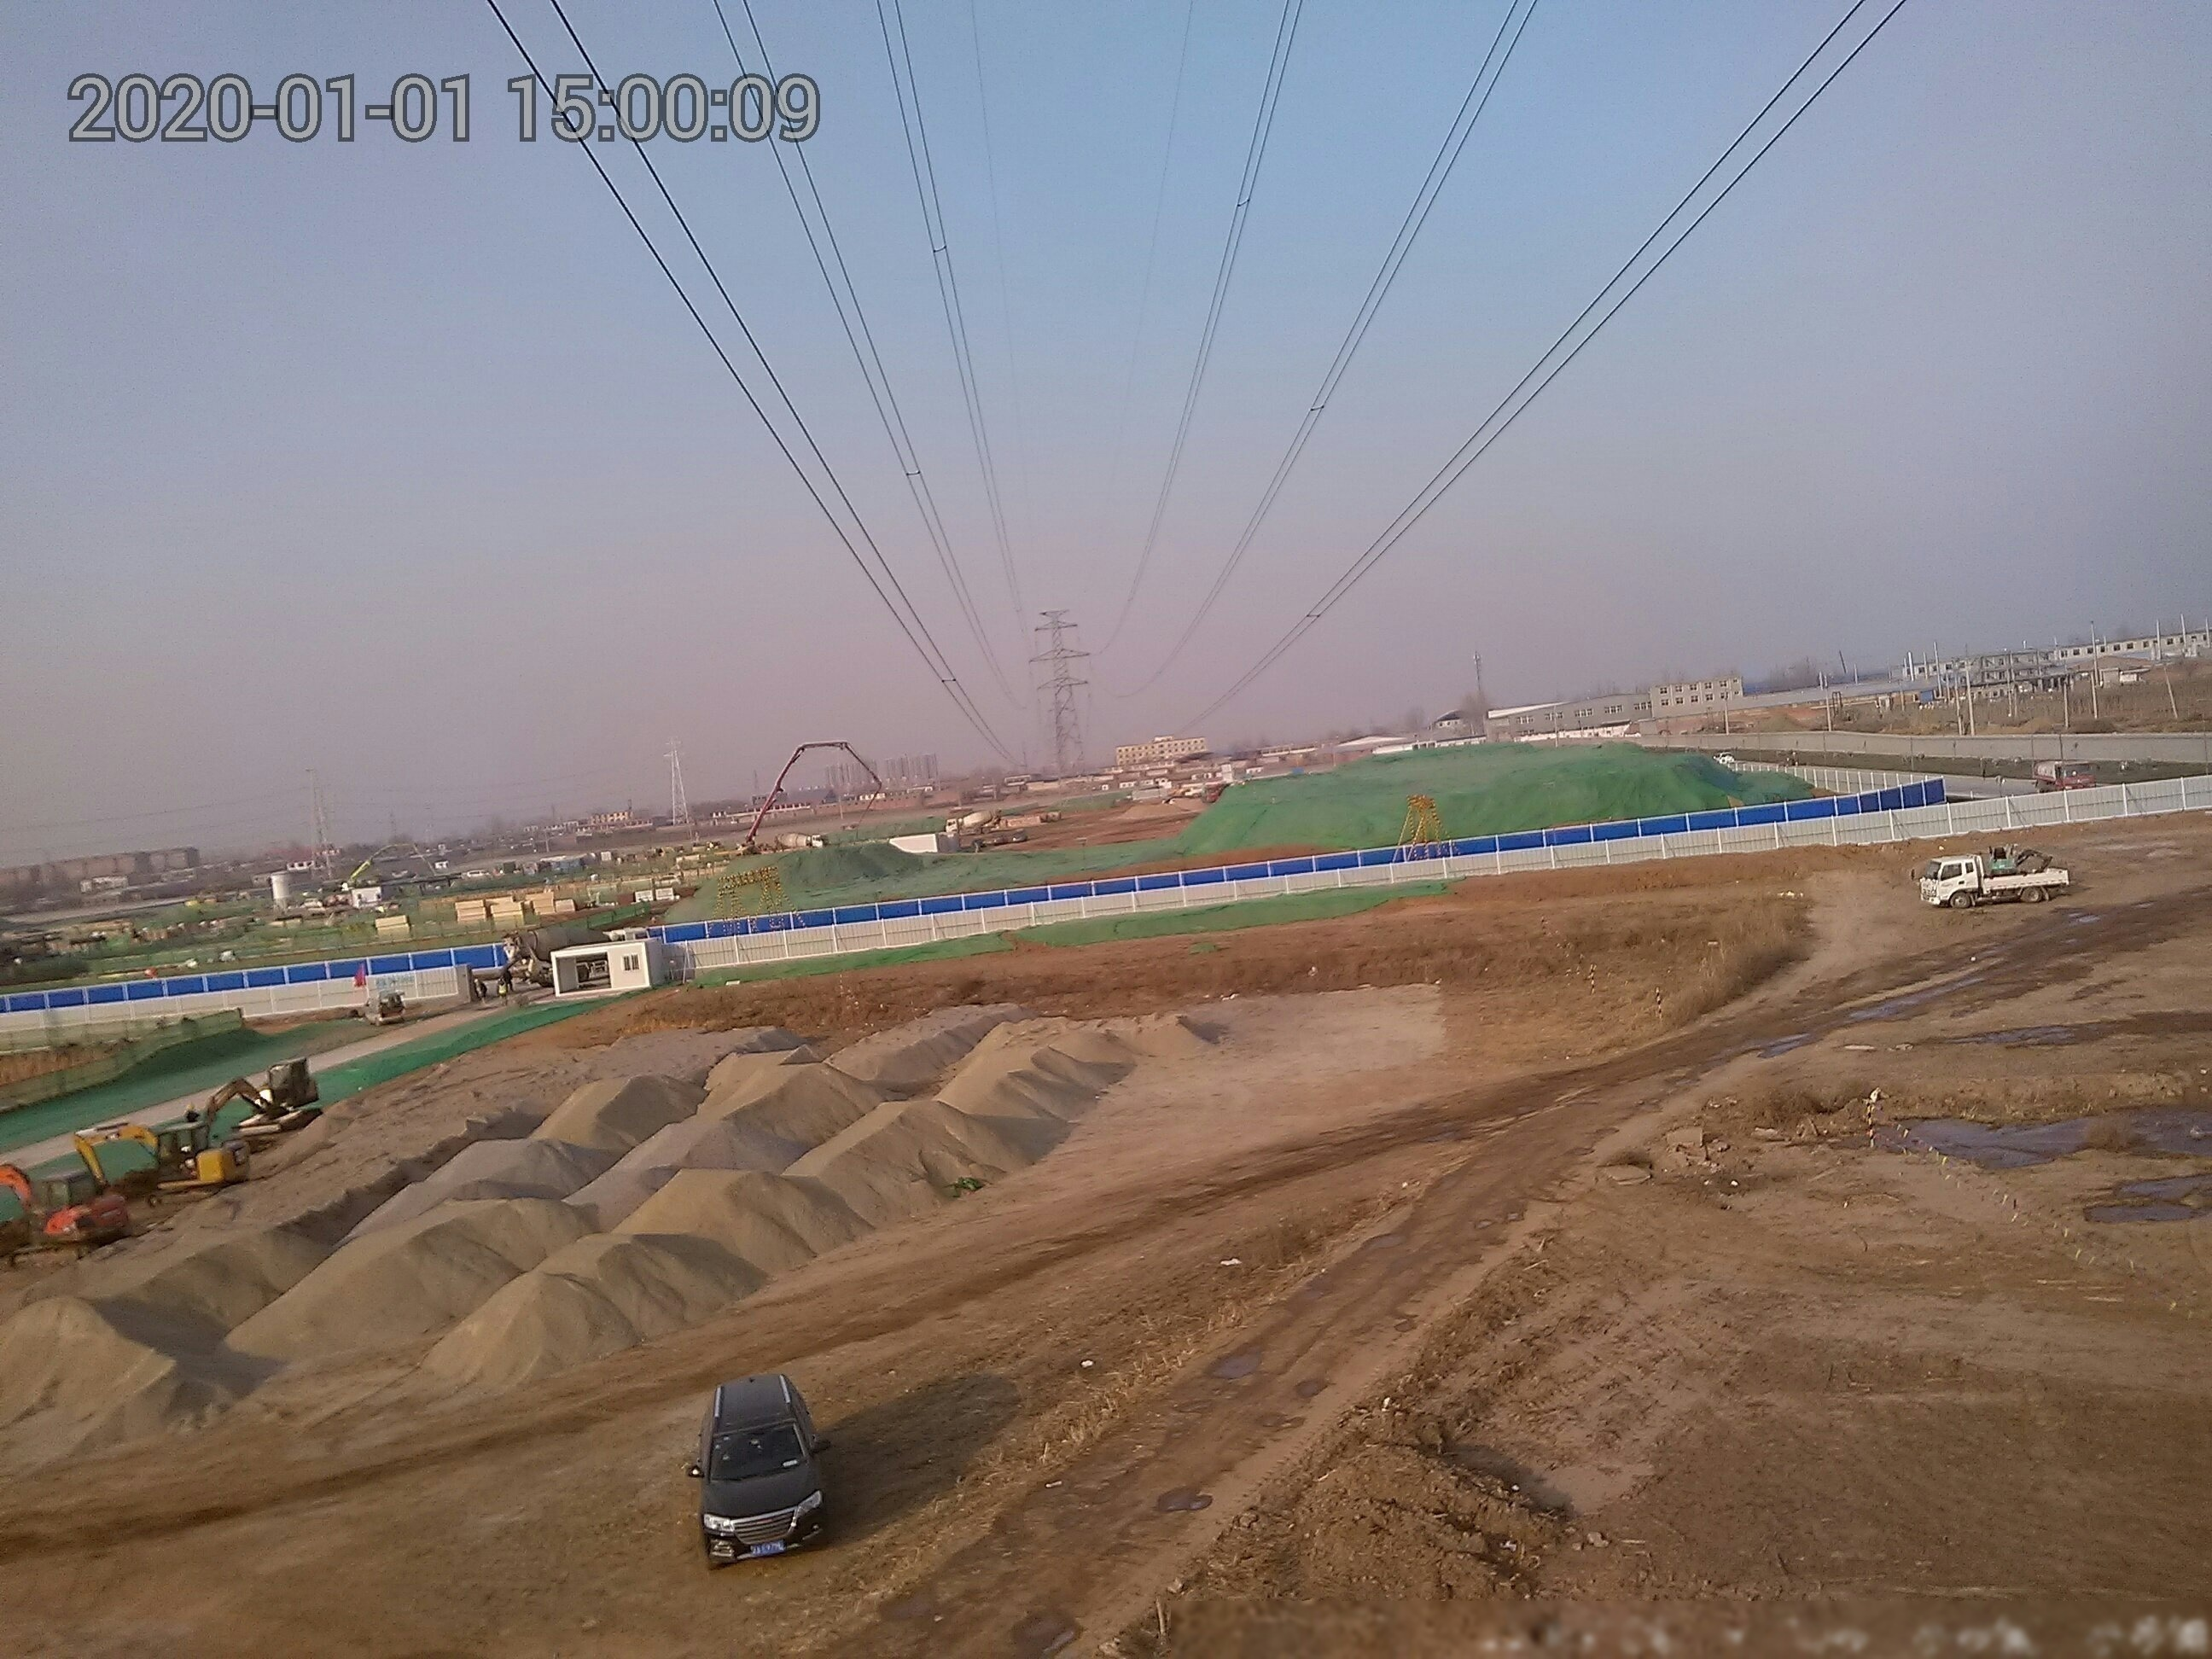tadiao: (737, 723, 906, 863)
